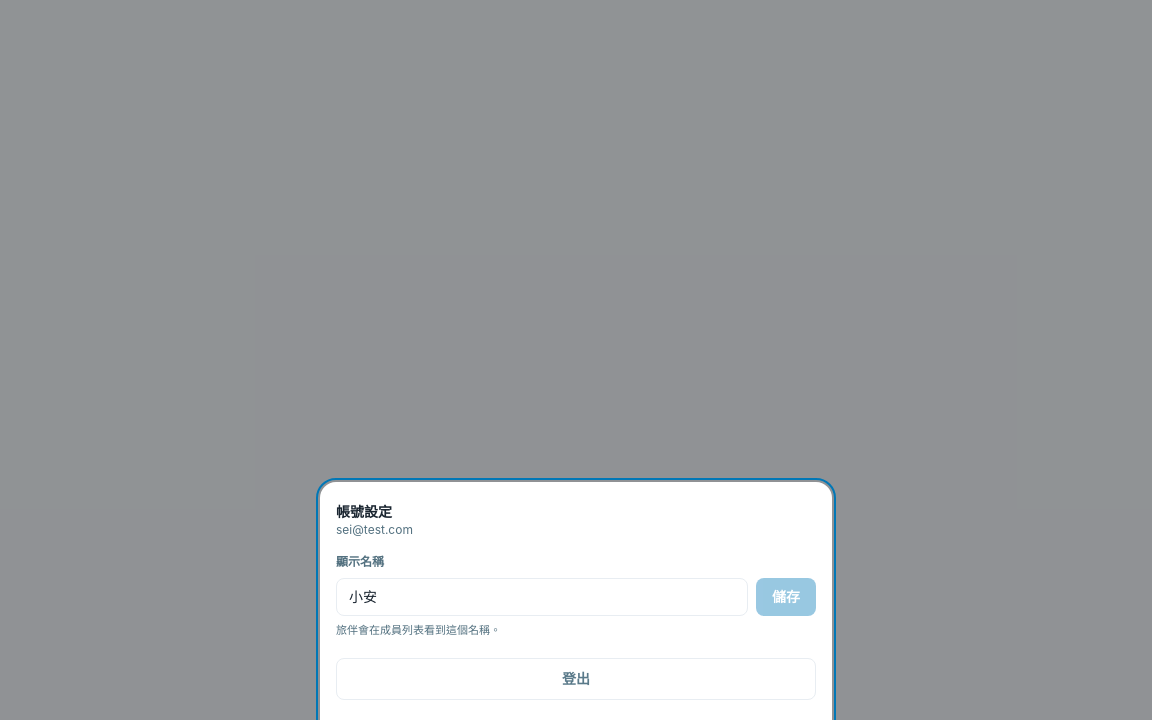
it: AccountSheet › saves on Enter
Step 1. Replace the text in the field labelled "顯示名稱" with "阿安" → (542, 596), box [336,578,748,616]
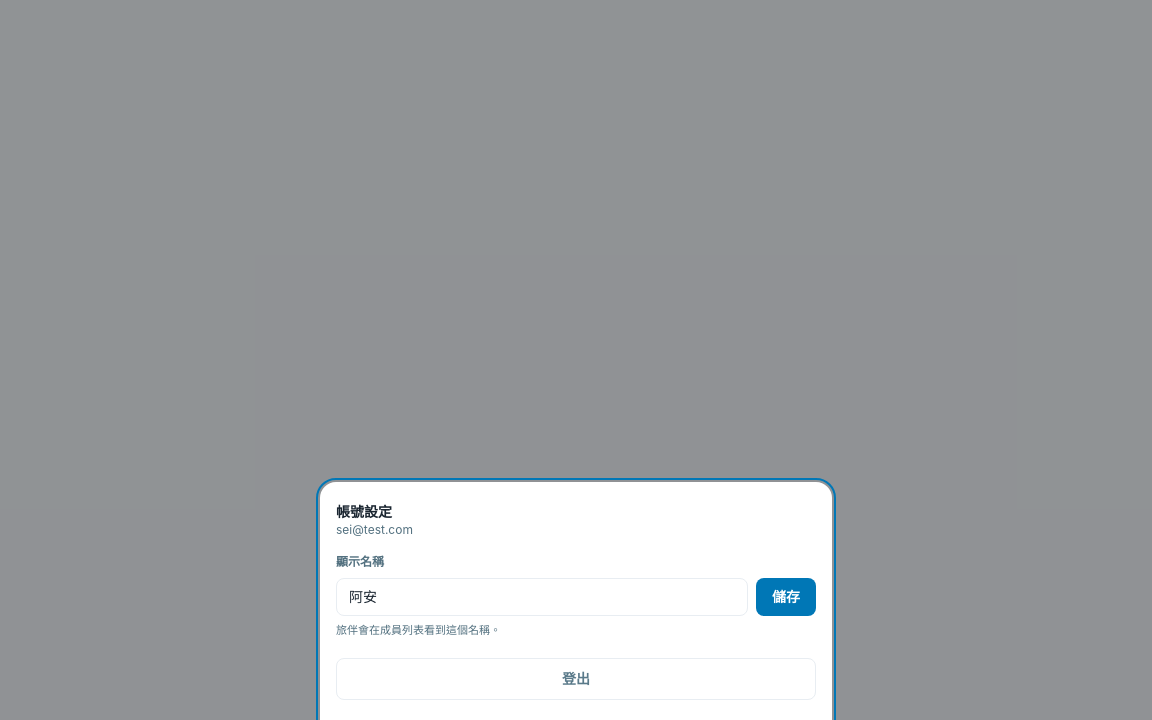
Step 2. Press Enter in the field labelled "顯示名稱", box [336,578,748,616]
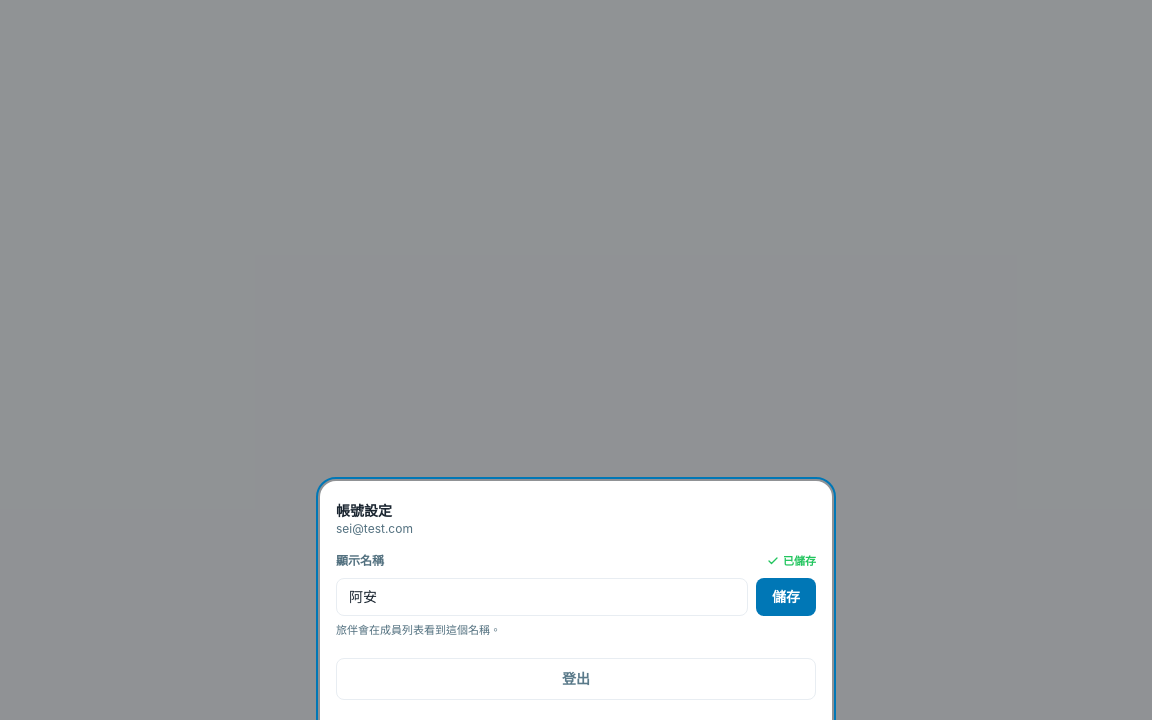
Expected: the text "已儲存" is shown, [767,553,816,570]
